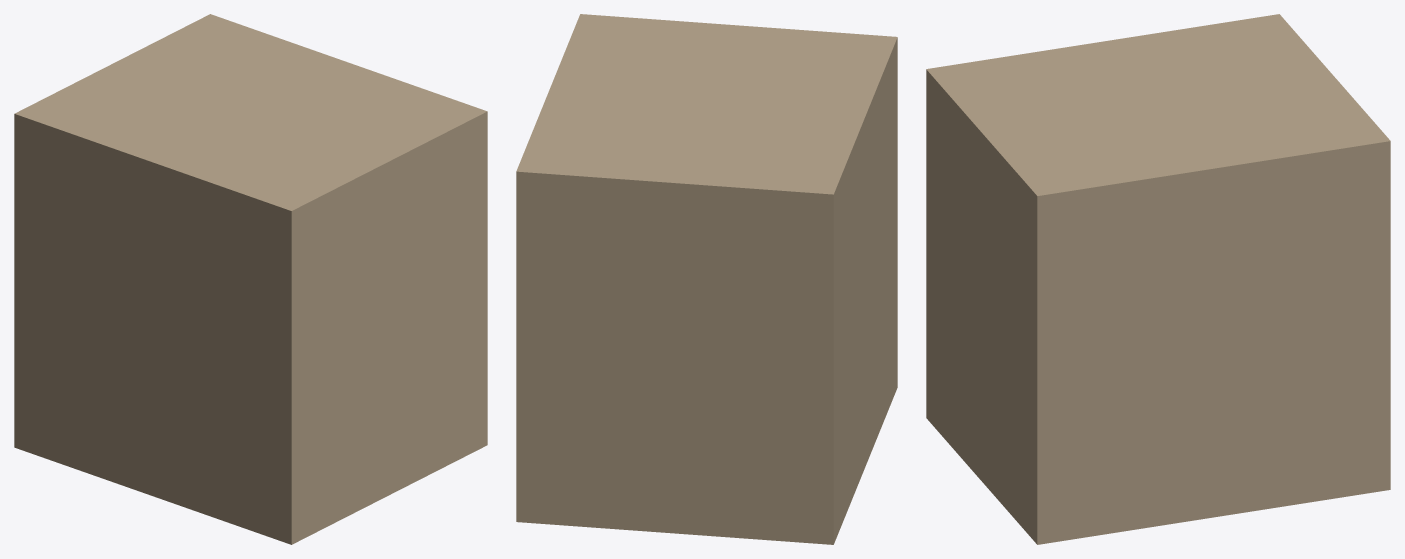
File: bld_107639109.dae
3 views of the same model, side by side, from view 1: azimuth 30°, elevation 25°; view 2: azimuth 150°, elevation 25°; view 3: azimuth 270°, elevation 25° (orthographic). The views are drawn at different scales.
Visible parts, largest first — view 1: bld_107639109; view 2: bld_107639109; view 3: bld_107639109.
Part boxes in pixels (bbox=[...]): bld_107639109: bbox=[14, 14, 487, 544]; bld_107639109: bbox=[516, 14, 897, 544]; bld_107639109: bbox=[926, 14, 1390, 544].
Size of the model in its own units: 8.96 by 9.66 by 8.
